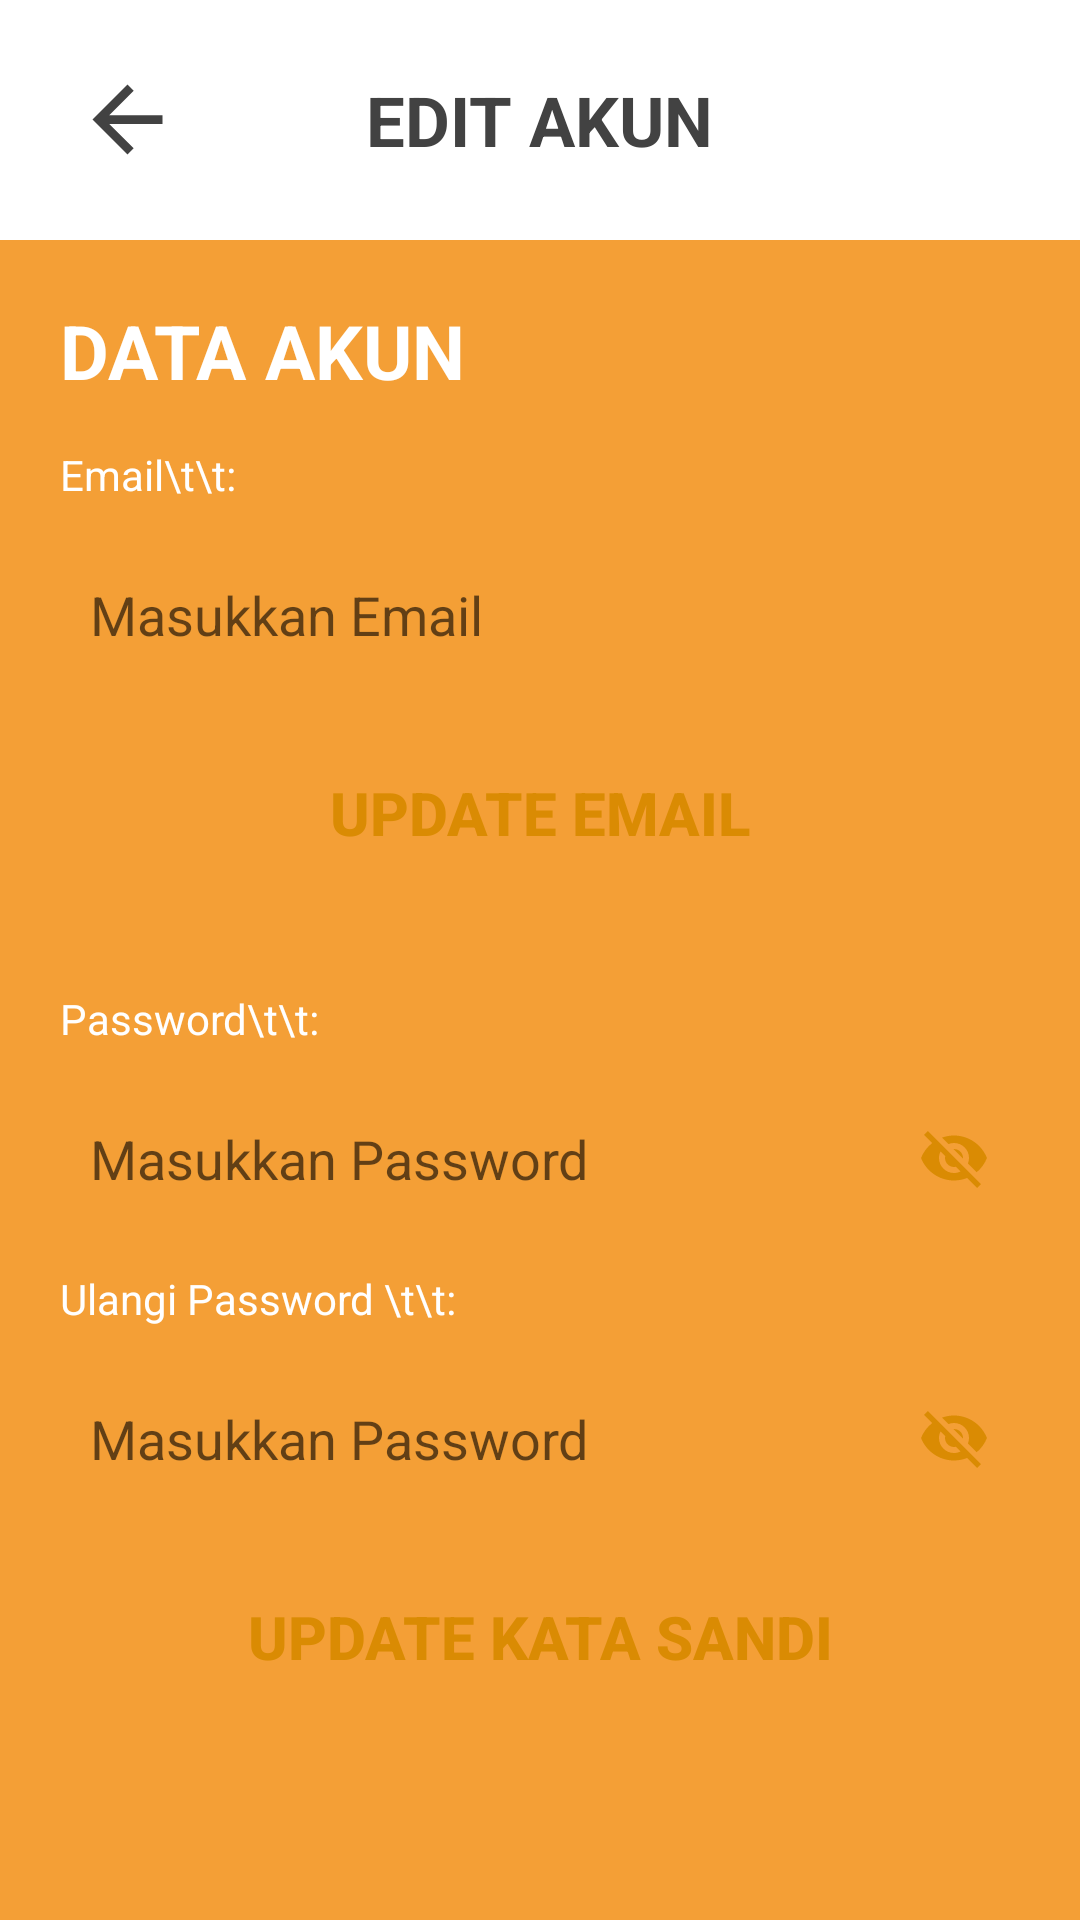

Point at icon controls on the screen. Image size 1080 x 1920, points as (x,y).
kembaliicondark: (127,119)
